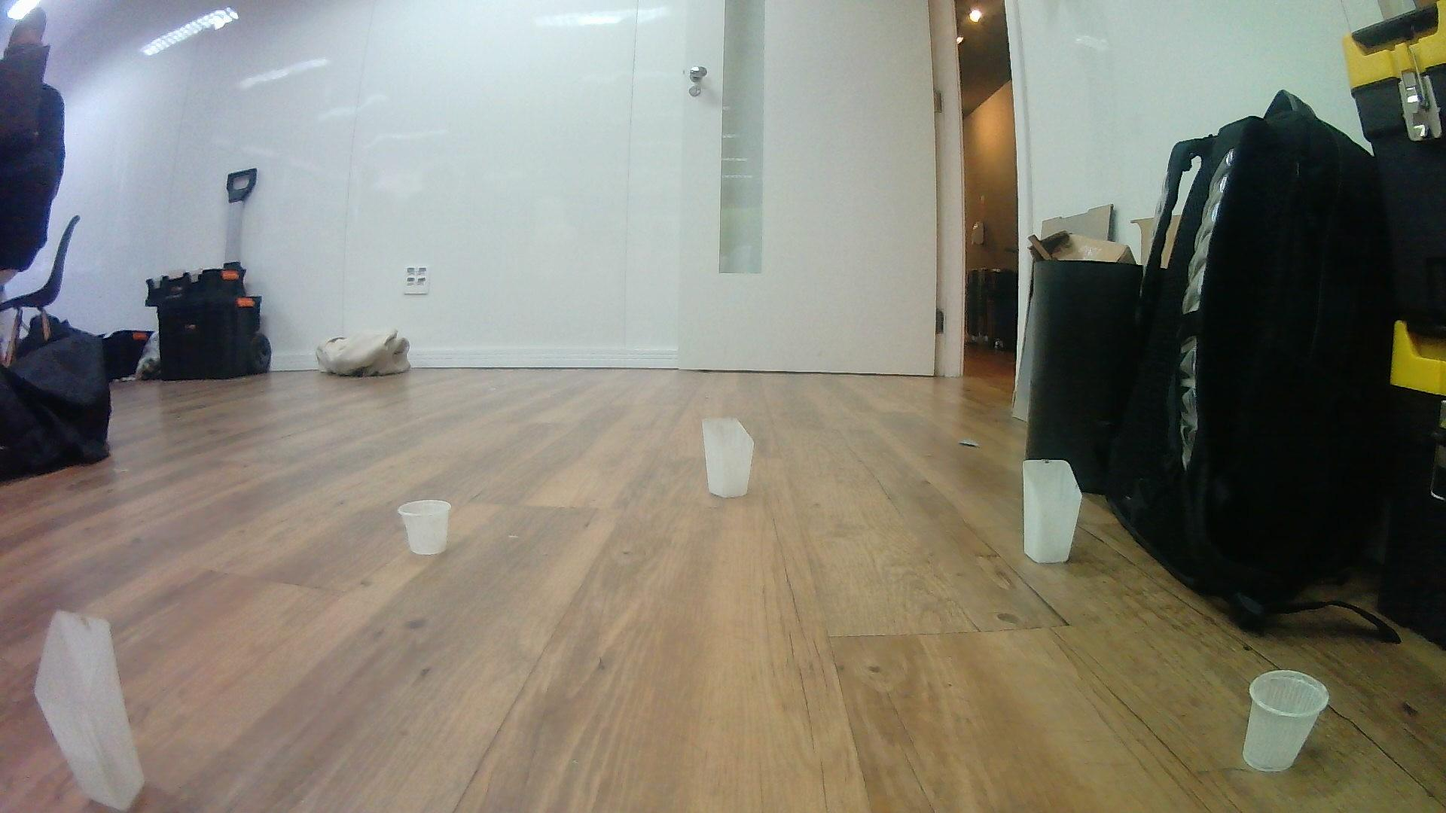vaso_quadrado: (1239, 668, 1332, 774), (396, 498, 453, 556)
vaso_redondo: (29, 608, 147, 812), (1018, 458, 1083, 565), (701, 416, 755, 499)
